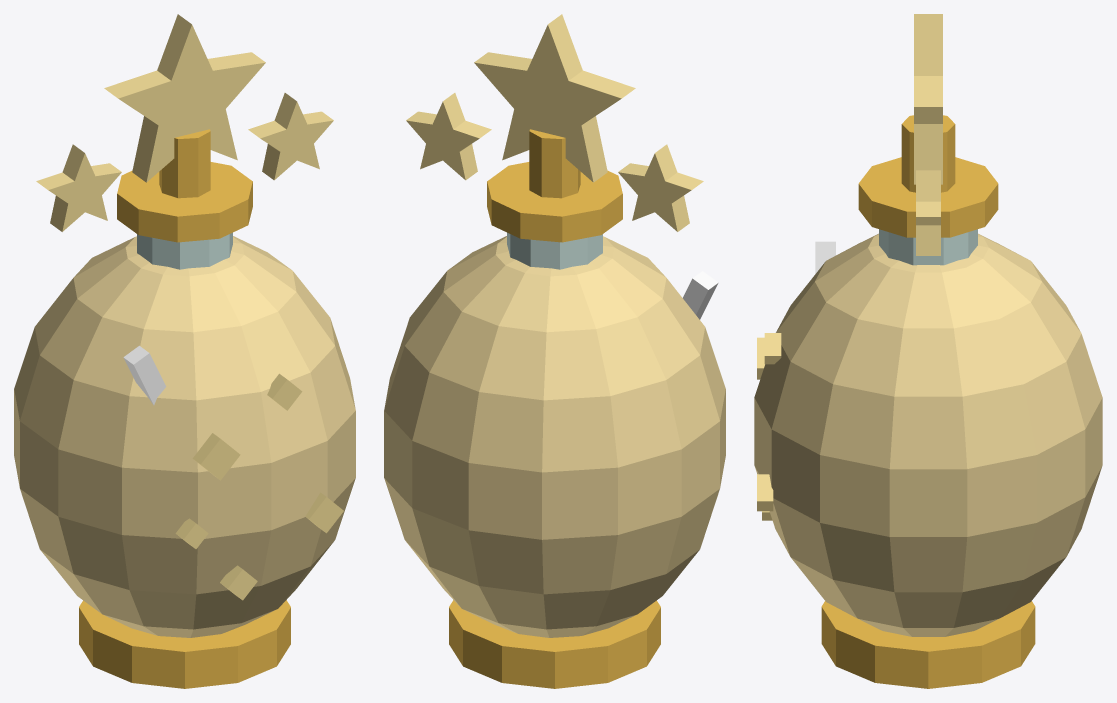
The model's file is CatCafe_Prop_Potion_BigGoldRush.glb.
3 views of the same model, side by side, from view 1: azimuth 30°, elevation 25°; view 2: azimuth 150°, elevation 25°; view 3: azimuth 270°, elevation 25° (orthographic).
Visible parts, largest first — view 1: CatCafe_Prop_Potion_BigGoldRush; view 2: CatCafe_Prop_Potion_BigGoldRush; view 3: CatCafe_Prop_Potion_BigGoldRush.
Part boxes in pixels (x1,y1,x2,y2): CatCafe_Prop_Potion_BigGoldRush: (14,14,355,688); CatCafe_Prop_Potion_BigGoldRush: (384,14,725,688); CatCafe_Prop_Potion_BigGoldRush: (754,14,1102,688).
Bounding box in the file's own units: 0.8257 × 1.69 × 0.8469.
Materials: 1 (1 with a texture image).
